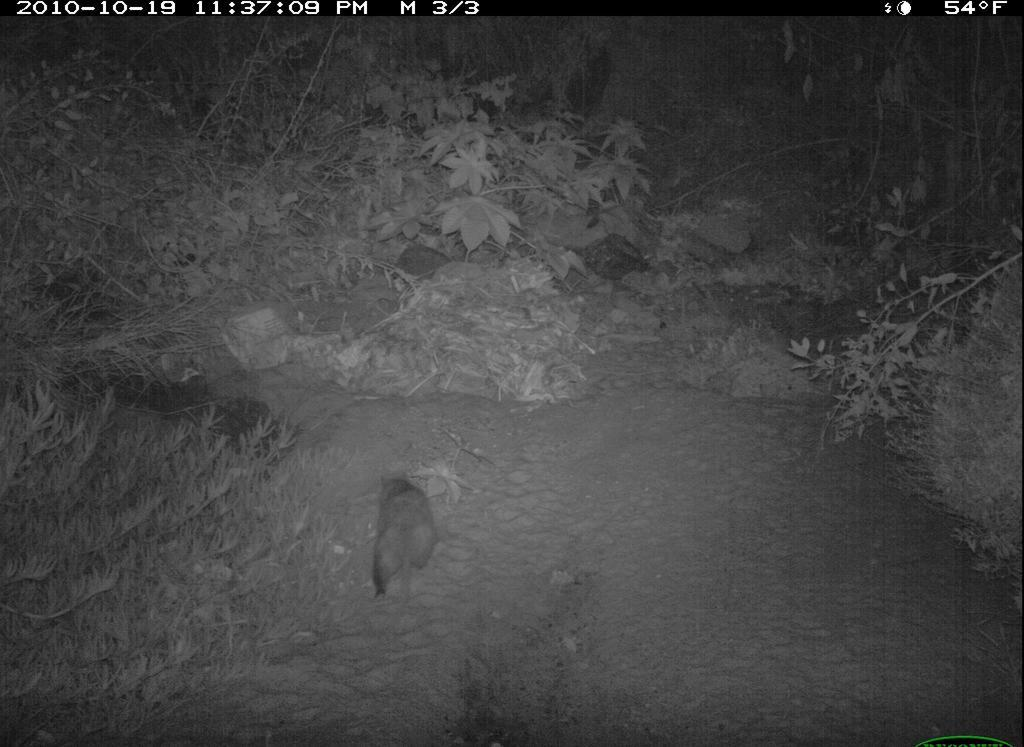opossum: (365, 468, 451, 606)
